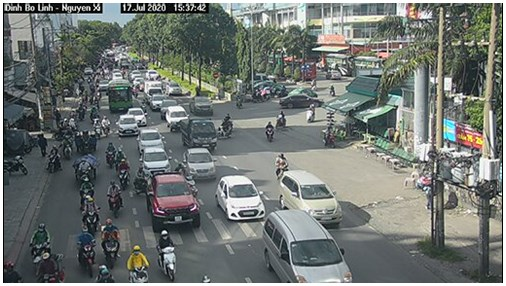xe_ba_gac: (71, 150, 97, 181), (74, 129, 97, 152)
xe_ban_tai: (148, 169, 201, 229)
xe_hoi: (264, 209, 355, 282), (280, 169, 343, 223), (213, 175, 265, 222), (183, 146, 215, 180), (140, 148, 171, 174), (138, 127, 168, 153), (188, 93, 214, 115), (118, 113, 140, 137)
xe_may: (155, 229, 180, 282), (98, 215, 123, 264), (125, 240, 150, 283), (28, 219, 51, 265), (76, 225, 96, 277), (81, 196, 99, 233), (105, 178, 123, 213), (81, 175, 100, 208), (41, 146, 62, 174), (271, 152, 288, 178), (102, 139, 116, 167), (119, 157, 131, 188), (273, 109, 289, 131), (219, 112, 232, 138), (265, 118, 277, 145), (61, 136, 74, 160), (304, 104, 315, 126)
xe_tai: (178, 115, 217, 150)
